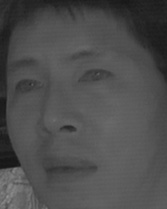eye: (75, 67, 116, 88), (9, 76, 44, 96)
mouth: (40, 149, 100, 186)
